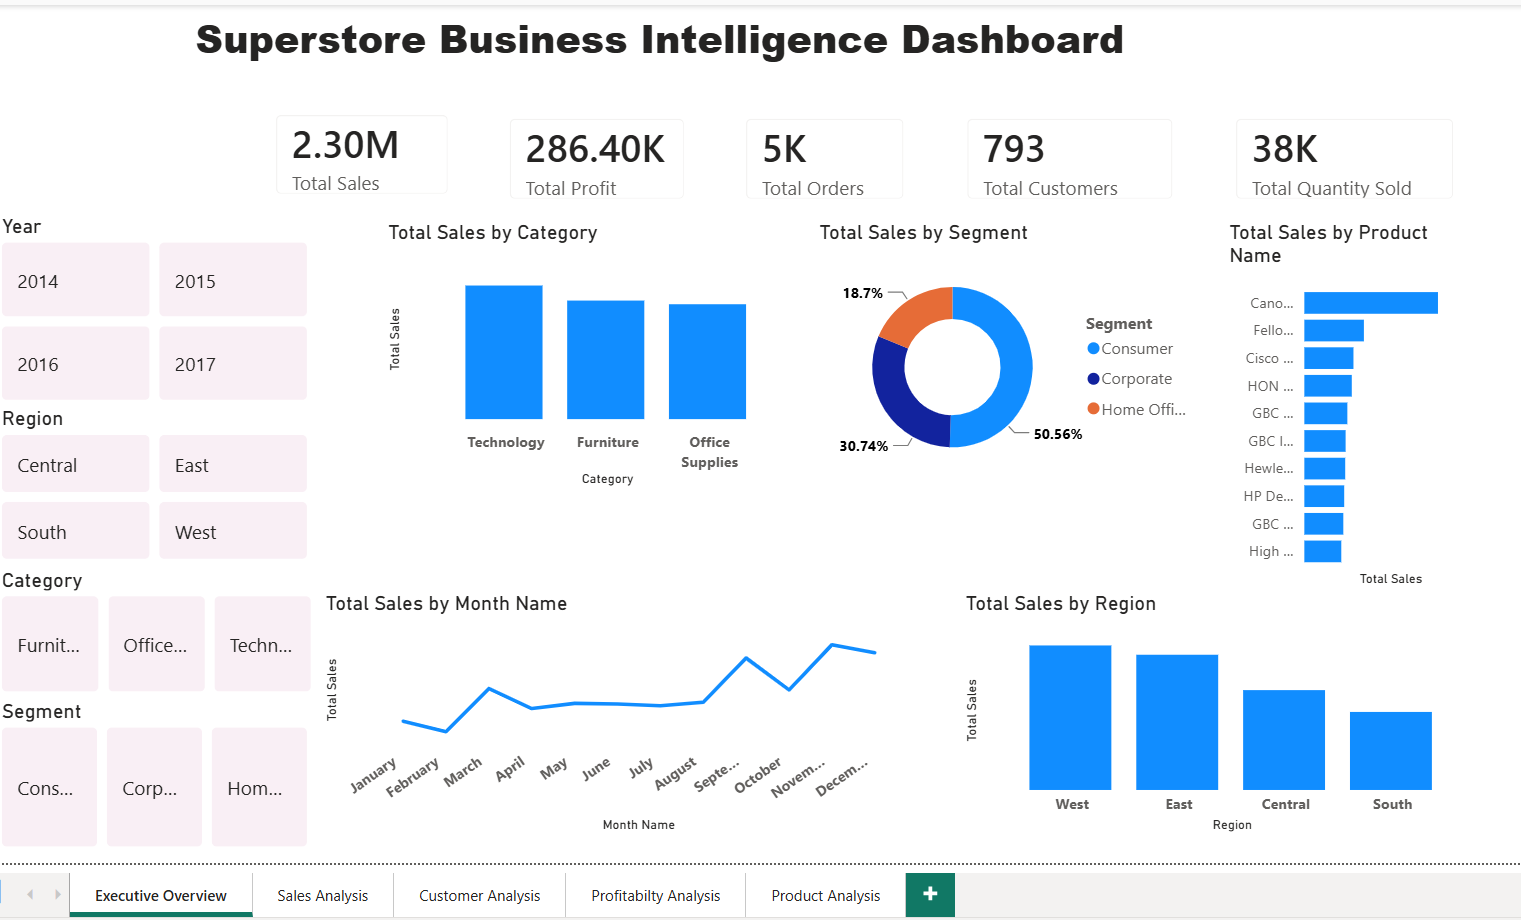

The page's visual inventory and layout, read from the dashboard file:
{"tool":"powerbi","page":{"name":"Executive Overview","canvas":[1280,720],"ordinal":0},"visuals":[{"type":"cardVisual","fields":{"Data":["Measures (2).Total Sales"]},"box":[218.3,75,178.3,100],"z":0},{"type":"cardVisual","fields":{"Data":["Measures (2).Total Profit"]},"box":[413.8,78.3,180,101.7],"z":1000},{"type":"cardVisual","fields":{"Data":["Measures (2).Total Orders"]},"box":[612.5,78.3,166.7,101.7],"z":2000},{"type":"cardVisual","fields":{"Data":["Measures (2).Total Quantity Sold"]},"box":[1023.3,78.3,216.7,101.7],"z":3000},{"type":"cardVisual","fields":{"Data":["Measures (2).Total Customers"]},"box":[797.9,78.3,206.7,101.7],"z":4000},{"type":"textbox","box":[10,255,178,150],"z":5000},{"type":"textbox","box":[9.6,0,1095,64.5],"z":6000},{"type":"lineChart","fields":{"Category":["Dim_Date.Month Name"],"Y":["Measures (2).Total Sales"]},"box":[271.7,491.7,485,206.7],"z":7000},{"type":"columnChart","fields":{"Category":["Dim_Product.Category"],"Y":["Measures (2).Total Sales"]},"box":[323.8,180.8,348.1,228],"z":8000},{"type":"columnChart","fields":{"Category":["Dim_Location.Region"],"Y":["Measures (2).Total Sales"]},"box":[808.3,491.7,440,206.7],"z":9000},{"type":"donutChart","fields":{"Category":["Dim_Customer.Segment"],"Y":["Measures (2).Total Sales"]},"box":[685.3,180.8,330.5,228],"z":10000},{"type":"clusteredBarChart","fields":{"Category":["Dim_Product.Product Name"],"Y":["Measures (2).Total Sales"]},"box":[1029.3,180.8,218.6,311.6],"z":11000},{"type":"advancedSlicerVisual","fields":{"Values":["Dim_Date.Order Date.Variation.Date Hierarchy.Year"]},"box":[0,175,266.7,161.7],"z":12000},{"type":"advancedSlicerVisual","fields":{"Values":["Dim_Location.Region"]},"box":[0,336.7,266.7,135],"z":13000},{"type":"advancedSlicerVisual","fields":{"Values":["Dim_Customer.Segment"]},"box":[0,581.7,266.7,130],"z":14000},{"type":"advancedSlicerVisual","fields":{"Values":["Dim_Product.Category"]},"box":[0,471.7,271.7,110],"z":15000}]}

Visuals, with their boxes on the page's 1280x720 design canvas (x1, y1, x2, y2). These are canvas units, not pixel positions in the 1521x920 screenshot, which may show the page scaled, cropped or inside an application window:
cardVisual - Measures (2).Total Sales: (x1=218, y1=75, x2=397, y2=175)
cardVisual - Measures (2).Total Profit: (x1=414, y1=78, x2=594, y2=180)
cardVisual - Measures (2).Total Orders: (x1=612, y1=78, x2=779, y2=180)
cardVisual - Measures (2).Total Quantity Sold: (x1=1023, y1=78, x2=1240, y2=180)
cardVisual - Measures (2).Total Customers: (x1=798, y1=78, x2=1005, y2=180)
textbox: (x1=10, y1=255, x2=188, y2=405)
textbox: (x1=10, y1=0, x2=1105, y2=64)
lineChart - Dim_Date.Month Name x Measures (2).Total Sales: (x1=272, y1=492, x2=757, y2=698)
columnChart - Dim_Product.Category x Measures (2).Total Sales: (x1=324, y1=181, x2=672, y2=409)
columnChart - Dim_Location.Region x Measures (2).Total Sales: (x1=808, y1=492, x2=1248, y2=698)
donutChart - Dim_Customer.Segment x Measures (2).Total Sales: (x1=685, y1=181, x2=1016, y2=409)
clusteredBarChart - Dim_Product.Product Name x Measures (2).Total Sales: (x1=1029, y1=181, x2=1248, y2=492)
advancedSlicerVisual - Dim_Date.Order Date.Variation.Date Hierarchy.Year: (x1=0, y1=175, x2=267, y2=337)
advancedSlicerVisual - Dim_Location.Region: (x1=0, y1=337, x2=267, y2=472)
advancedSlicerVisual - Dim_Customer.Segment: (x1=0, y1=582, x2=267, y2=712)
advancedSlicerVisual - Dim_Product.Category: (x1=0, y1=472, x2=272, y2=582)
